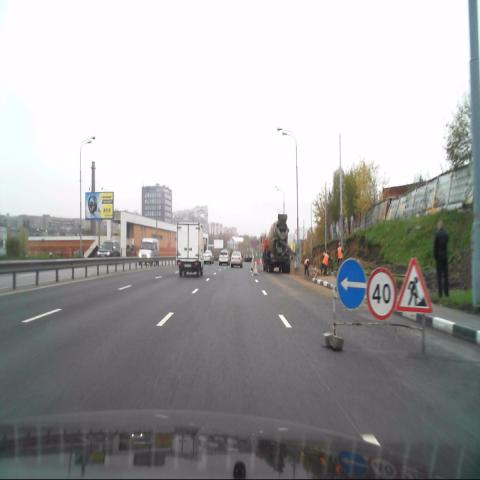4_1_2_2: (335, 257, 366, 311)
